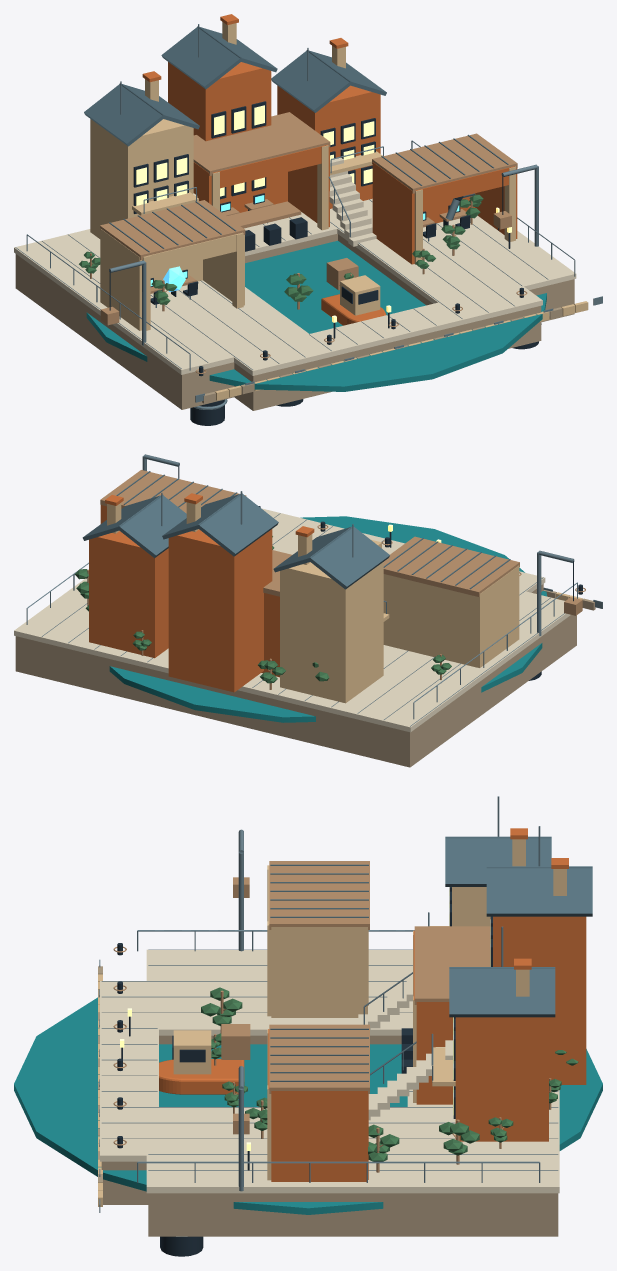
Rendered from chongzhen-low.glb.
3 renders of one model, top to bottom at view 1: azimuth 30°, elevation 25°; view 2: azimuth 150°, elevation 25°; view 3: azimuth 270°, elevation 25°, orthographic. The views are drawn at different scales.
Parts seen in each view (by area): view 1: ivory, terracotta, plaster, harbor_water, wood, limestone, slate_roof, graphite, steel, warm_lamps, foliage, boat_cabin (+3 smaller); view 2: terracotta, plaster, ivory, limestone, slate_roof, wood, harbor_water, steel, foliage; view 3: ivory, terracotta, limestone, harbor_water, wood, slate_roof, plaster, steel, foliage, graphite, boat_hull, boat_cabin (+1 smaller).
Boxes of the visible parts, x1,y1,x2,y2 form: ivory: [14, 158, 576, 375]; terracotta: [142, 14, 517, 264]; plaster: [90, 22, 588, 400]; harbor_water: [86, 240, 546, 391]; wood: [90, 112, 527, 373]; limestone: [15, 233, 574, 410]; slate_roof: [84, 26, 508, 252]; graphite: [109, 101, 538, 425]; steel: [15, 24, 602, 409]; warm_lamps: [136, 105, 511, 322]; foliage: [79, 194, 483, 304]; boat_cabin: [340, 275, 380, 315]; terracotta: [89, 493, 314, 692]; plaster: [107, 501, 582, 703]; ivory: [14, 508, 570, 732]; limestone: [15, 584, 595, 767]; slate_roof: [82, 471, 510, 589]; wood: [87, 470, 585, 689]; harbor_water: [109, 516, 547, 722]; steel: [26, 454, 602, 726]; foliage: [74, 536, 451, 683]; ivory: [100, 949, 559, 1193]; terracotta: [268, 828, 586, 1181]; limestone: [98, 966, 558, 1236]; harbor_water: [14, 997, 602, 1214]; wood: [113, 861, 551, 1172]; slate_roof: [270, 836, 592, 1081]; plaster: [98, 839, 566, 1206]; steel: [99, 796, 558, 1236]; foliage: [201, 987, 578, 1163]; graphite: [117, 887, 492, 1256]; boat_hull: [159, 1059, 244, 1094]; boat_cabin: [173, 1030, 211, 1074].
Bounding box in the file's own units: 16.92 × 9.3 × 15.8.
